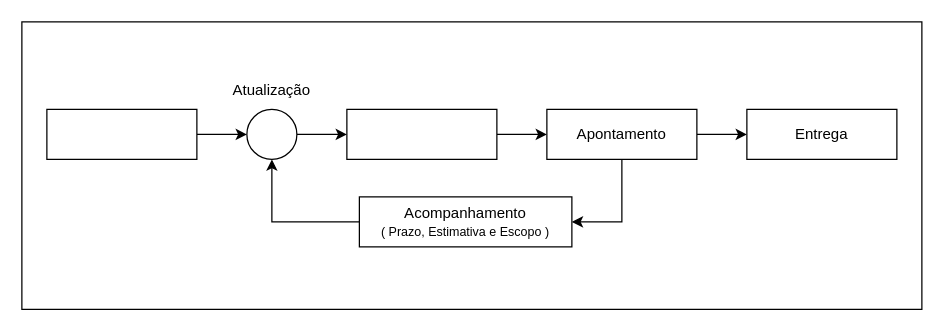
Some shapes in this 944 by 331 pixel diagram are drawn without their labels. Here are the shapes that lost their labels. From the top down, the centre of each, then its label:
At point (121, 133): "Cadastro do Projeto ( Estimativa inicial )".
At point (421, 133): "Desenvolvimento".
